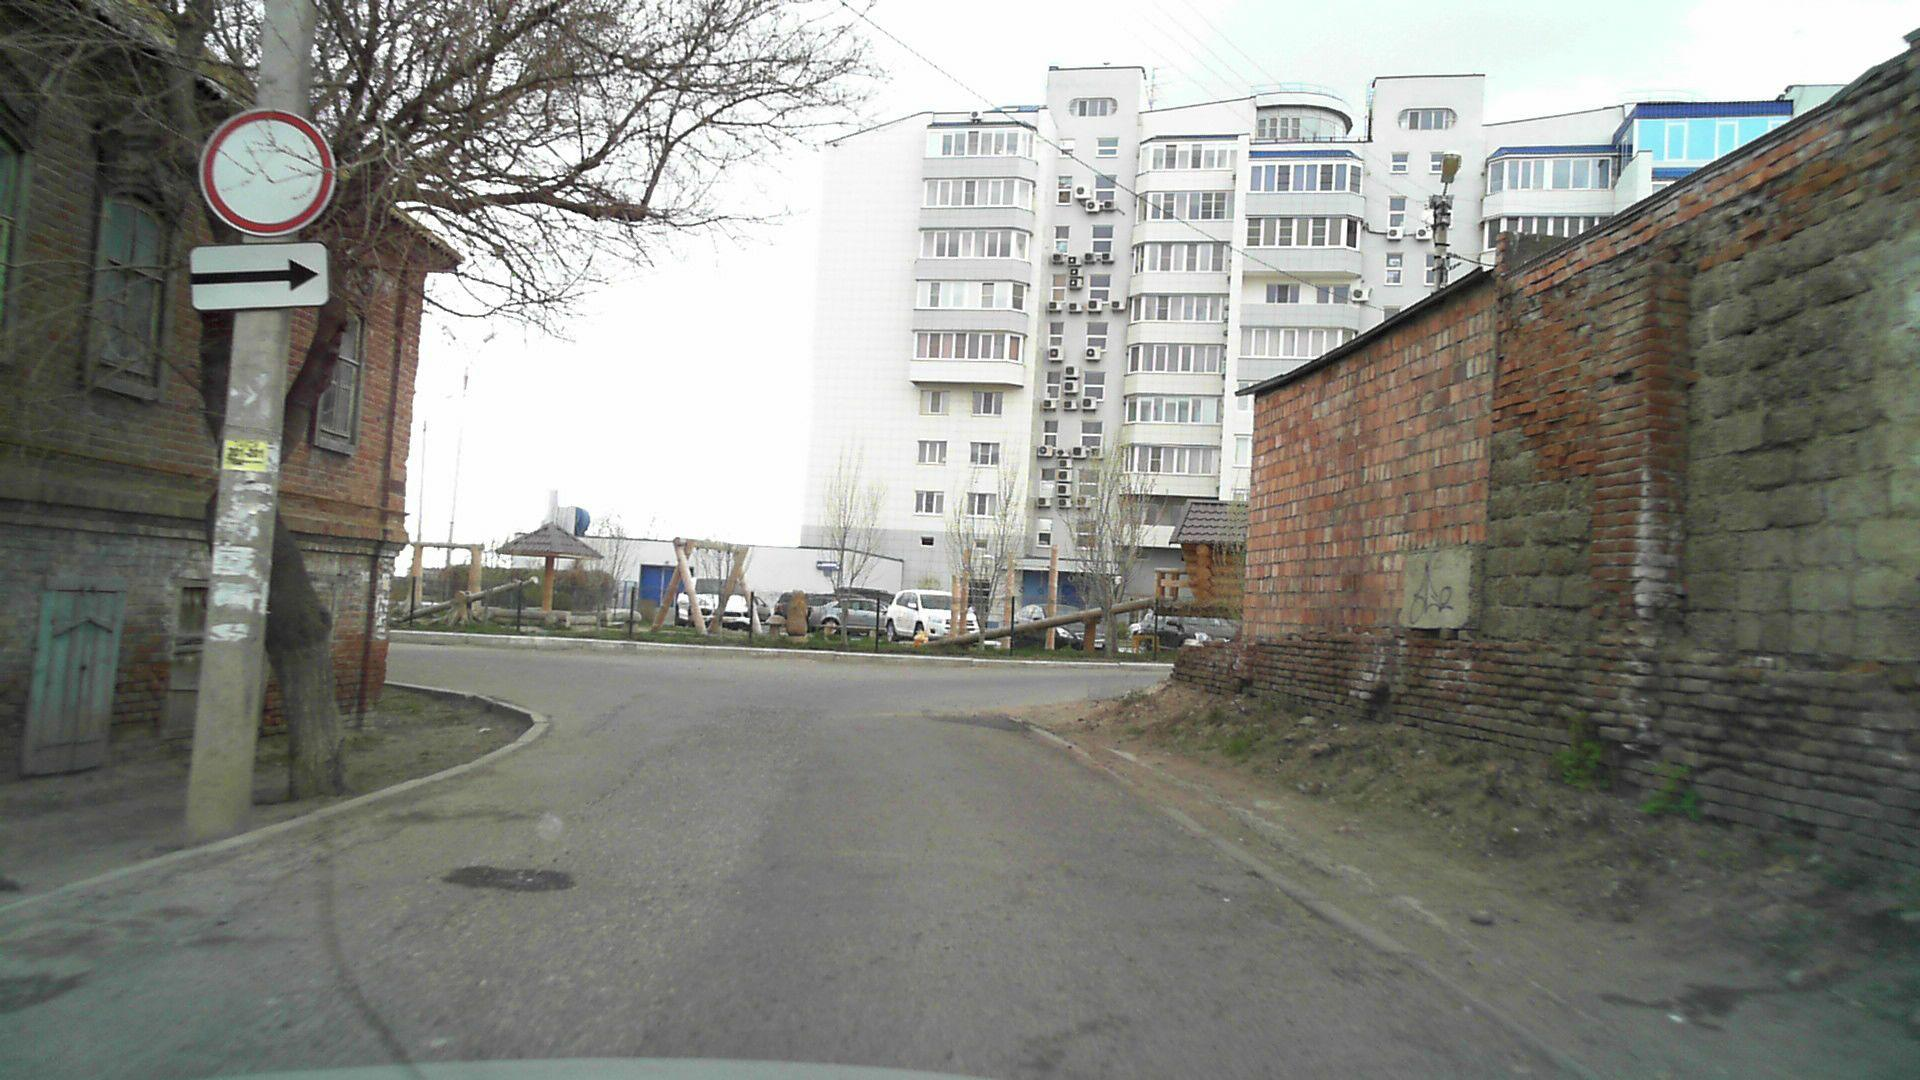3_2: (195, 108, 339, 237)
8_3_1: (190, 237, 332, 318)
